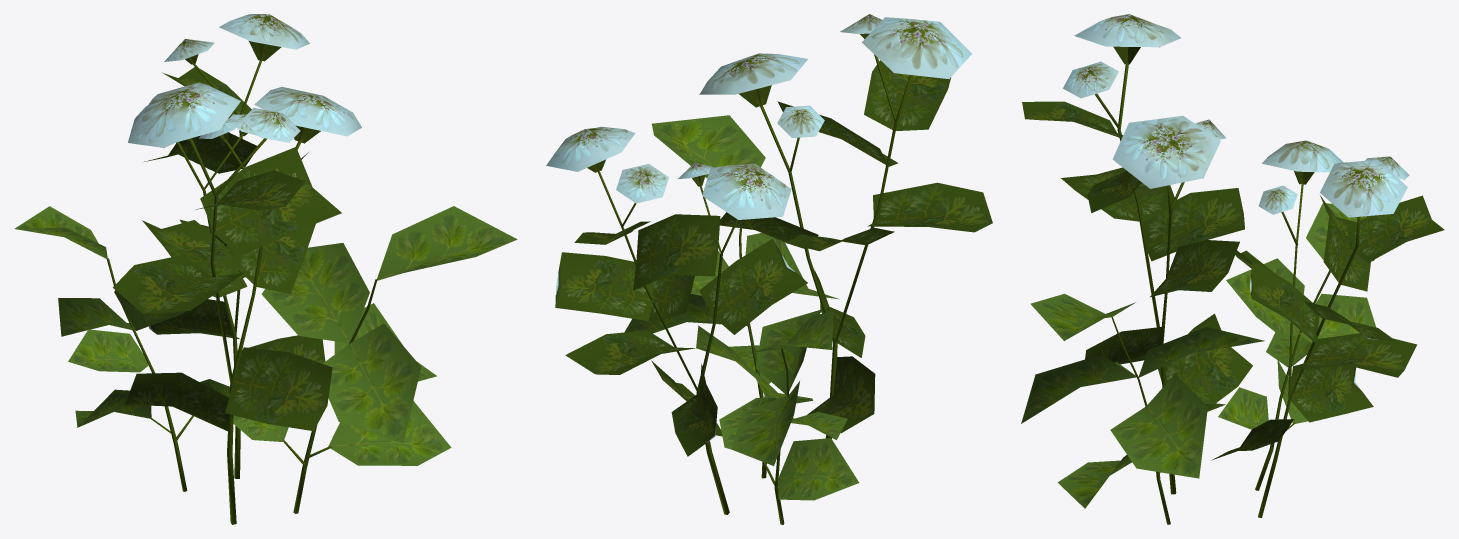
The model's file is Coriandrum sativum.FBX.
The picture shows the model from 3 angles, left to right: view 1: azimuth 30°, elevation 25°; view 2: azimuth 150°, elevation 25°; view 3: azimuth 270°, elevation 25°; orthographic projection. The views are drawn at different scales.
Parts seen in each view (by area): view 1: Coriandrum sativum, Coriandrum sativum2; view 2: Coriandrum sativum2, Coriandrum sativum; view 3: Coriandrum sativum, Coriandrum sativum2.
Boxes of the visible parts, <box> form: Coriandrum sativum: <box>113,82,517,524</box>; Coriandrum sativum2: <box>14,14,325,491</box>; Coriandrum sativum2: <box>546,126,859,524</box>; Coriandrum sativum: <box>624,14,992,478</box>; Coriandrum sativum: <box>1021,14,1264,524</box>; Coriandrum sativum2: <box>1211,140,1444,517</box>.
Size of the model in its own units: 87.79 by 108 by 92.86.
